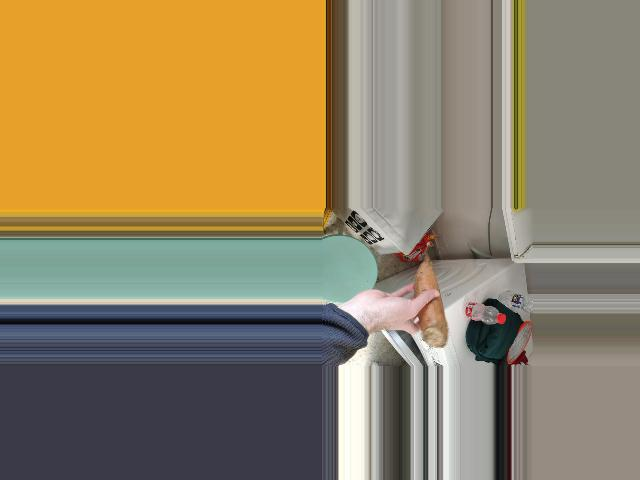sweet_potato: (417, 257, 440, 348)
